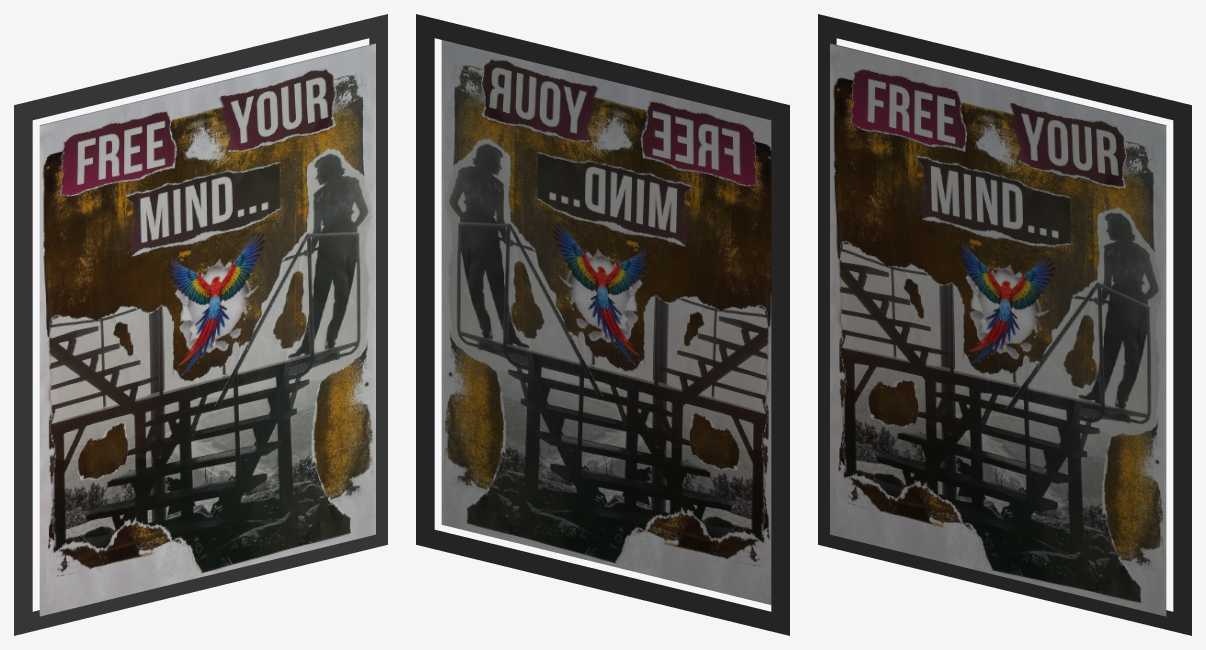
3 views of the same model, side by side, from view 1: azimuth 30°, elevation 25°; view 2: azimuth 150°, elevation 25°; view 3: azimuth 330°, elevation 25° (orthographic).
Parts seen in each view (by area): view 1: painting; view 2: painting; view 3: painting.
Boxes of the visible parts, x1,y1,x2,y2 form: painting: (14, 14, 387, 635); painting: (416, 14, 789, 635); painting: (818, 14, 1191, 635).
Size of the model in its own units: 1.19 by 1.62 by 0.0375.
Materials: 2 (1 with a texture image).
